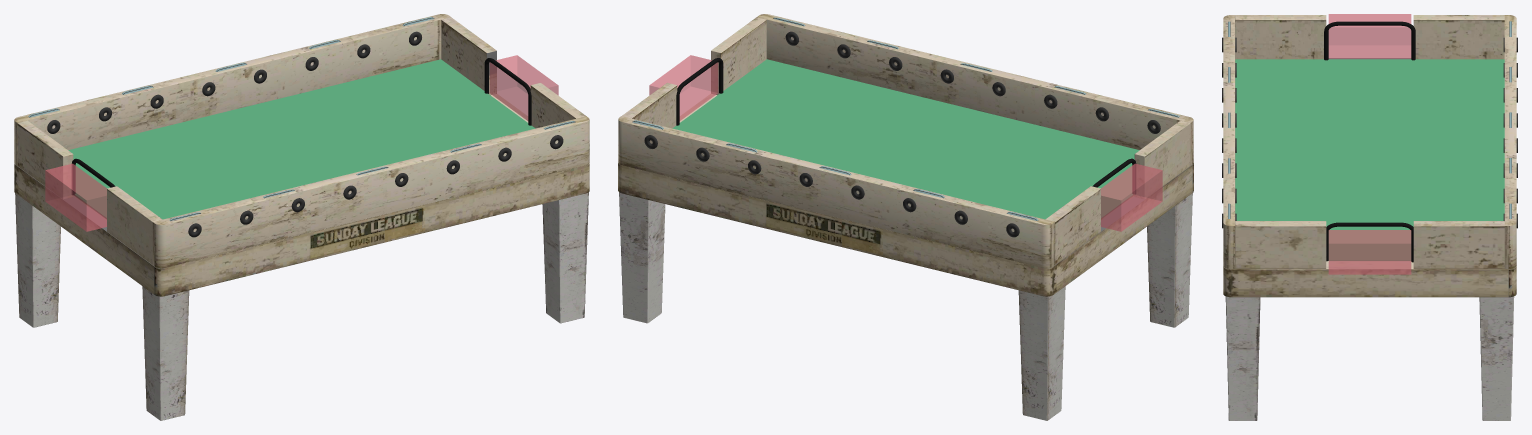
Rendered from leg-preview-sundayLeague.glb.
3 renders of one model, left to right at view 1: azimuth 30°, elevation 25°; view 2: azimuth 150°, elevation 25°; view 3: azimuth 270°, elevation 25°, orthographic.
Parts seen in each view (by area): view 1: field.001, wall_side_near.001, table_base.001, wall_side_far.001, table_leg.005, table_leg.007, table_leg.004, goal_net_left.001, wall_end_l_far.001, wall_end_r_far.001, wall_end_l_near.001, goal_net_right.001 (+3 smaller); view 2: field.001, wall_side_far.001, table_base.001, wall_side_near.001, table_leg.004, table_leg.006, table_leg.005, goal_net_left.001, wall_end_l_near.001, wall_end_r_near.001, wall_end_l_far.001, goal_net_right.001 (+3 smaller); view 3: field.001, table_base.001, wall_end_r_far.001, wall_end_r_near.001, wall_end_l_far.001, wall_end_l_near.001, table_leg.007, table_leg.006, goal_net_right.001, goal_net_left.001, wall_side_near.001, wall_side_far.001 (+2 smaller).
Boxes of the visible parts, box(x1,y1,x2,y2) form: field.001: box(68, 59, 535, 219); wall_side_near.001: box(152, 116, 589, 268); table_base.001: box(14, 94, 589, 296); wall_side_far.001: box(14, 14, 450, 165); table_leg.005: box(142, 286, 189, 420); table_leg.007: box(542, 192, 588, 323); table_leg.004: box(15, 193, 60, 327); goal_net_left.001: box(45, 163, 106, 231); wall_end_l_far.001: box(17, 120, 73, 198); wall_end_r_far.001: box(441, 17, 496, 95); wall_end_l_near.001: box(107, 186, 162, 264); goal_net_right.001: box(489, 55, 558, 120); field.001: box(672, 59, 1139, 219); wall_side_far.001: box(618, 116, 1055, 268); table_base.001: box(618, 94, 1193, 296); wall_side_near.001: box(757, 14, 1193, 165); table_leg.004: box(1018, 286, 1065, 420); table_leg.006: box(619, 192, 665, 323); table_leg.005: box(1147, 193, 1192, 327); goal_net_left.001: box(1101, 163, 1162, 231); wall_end_l_near.001: box(1134, 120, 1190, 198); wall_end_r_near.001: box(711, 17, 766, 95); wall_end_l_far.001: box(1045, 186, 1100, 264); goal_net_right.001: box(649, 55, 718, 120); field.001: box(1235, 59, 1504, 260); table_base.001: box(1223, 58, 1516, 297); wall_end_r_far.001: box(1413, 221, 1504, 268); wall_end_r_near.001: box(1235, 221, 1326, 268); wall_end_l_far.001: box(1413, 15, 1504, 59); wall_end_l_near.001: box(1235, 15, 1326, 59); table_leg.007: box(1225, 296, 1260, 420); table_leg.006: box(1479, 296, 1514, 420); goal_net_right.001: box(1328, 230, 1411, 274); goal_net_left.001: box(1328, 14, 1411, 58); wall_side_near.001: box(1223, 15, 1235, 268); wall_side_far.001: box(1504, 15, 1516, 268).
Size of the model in its own units: 137 by 55.48 by 74.64.
Materials: 8 (2 with a texture image).
